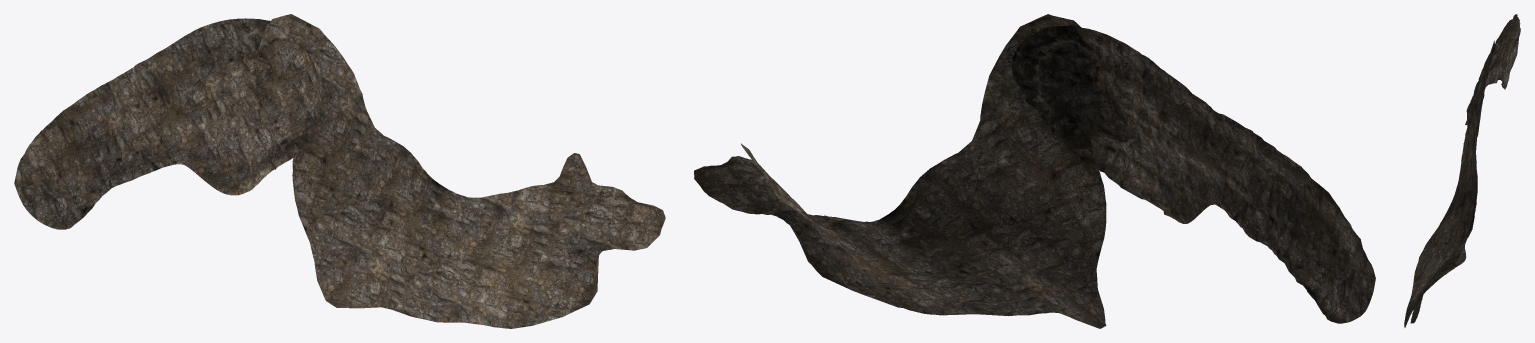
File: litica.glb
3 views of the same model, side by side, from view 1: azimuth 30°, elevation 25°; view 2: azimuth 150°, elevation 25°; view 3: azimuth 270°, elevation 25° (orthographic). The views are drawn at different scales.
Visible parts, largest first — view 1: Background_Tree_Atlas.022_Tall_Cliff_0; view 2: Background_Tree_Atlas.022_Tall_Cliff_0; view 3: Background_Tree_Atlas.022_Tall_Cliff_0.
Boxes of the visible parts, x1,y1,x2,y2 form: Background_Tree_Atlas.022_Tall_Cliff_0: (14, 14, 665, 328); Background_Tree_Atlas.022_Tall_Cliff_0: (694, 14, 1375, 328); Background_Tree_Atlas.022_Tall_Cliff_0: (1404, 14, 1520, 327).
Size of the model in its own units: 157 by 80.36 by 40.07.
Materials: 1 (1 with a texture image).
